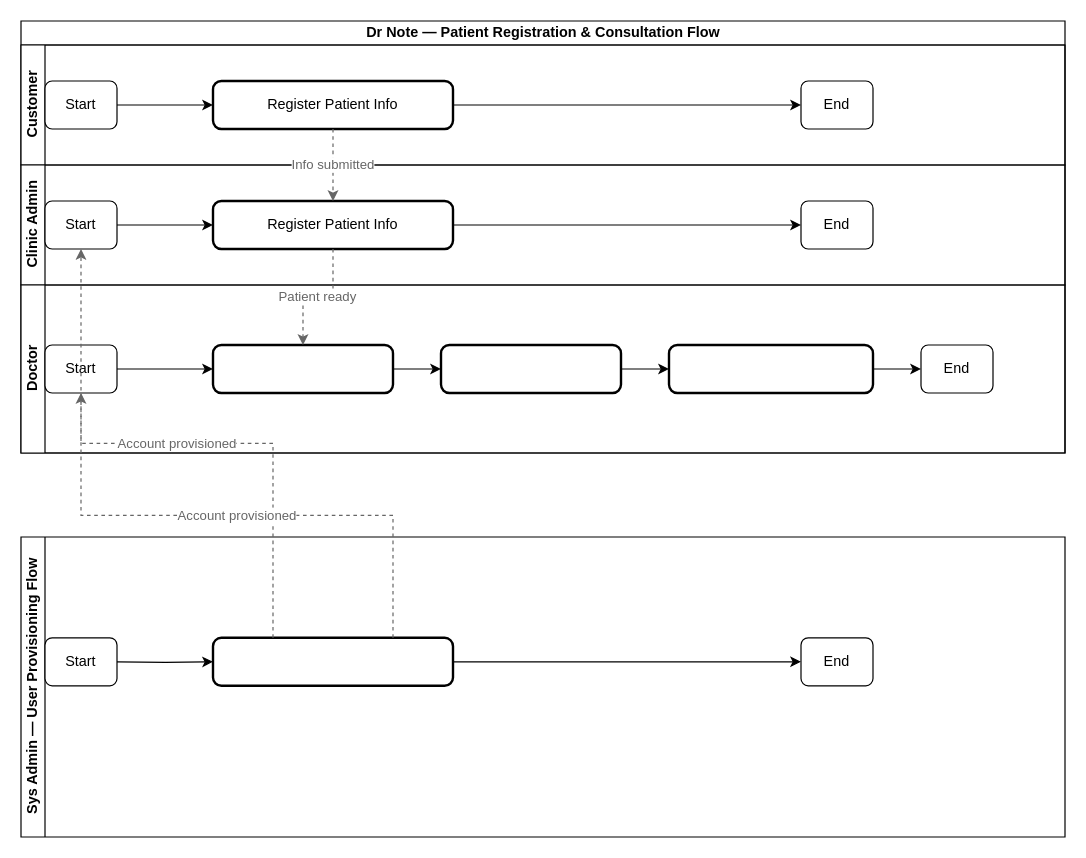
This 1086x858 diagram has some shape labels left out. The centre of each missing label's shape, as x and y in pixels:
"Manage Diagnosis" belongs at (x=530, y=368).
"Manage Prescription" belongs at (x=770, y=368).
"Review History" belongs at (x=302, y=368).
"User Registration" belongs at (x=332, y=661).
